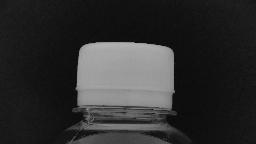Good Cap: (70, 38, 180, 120)
